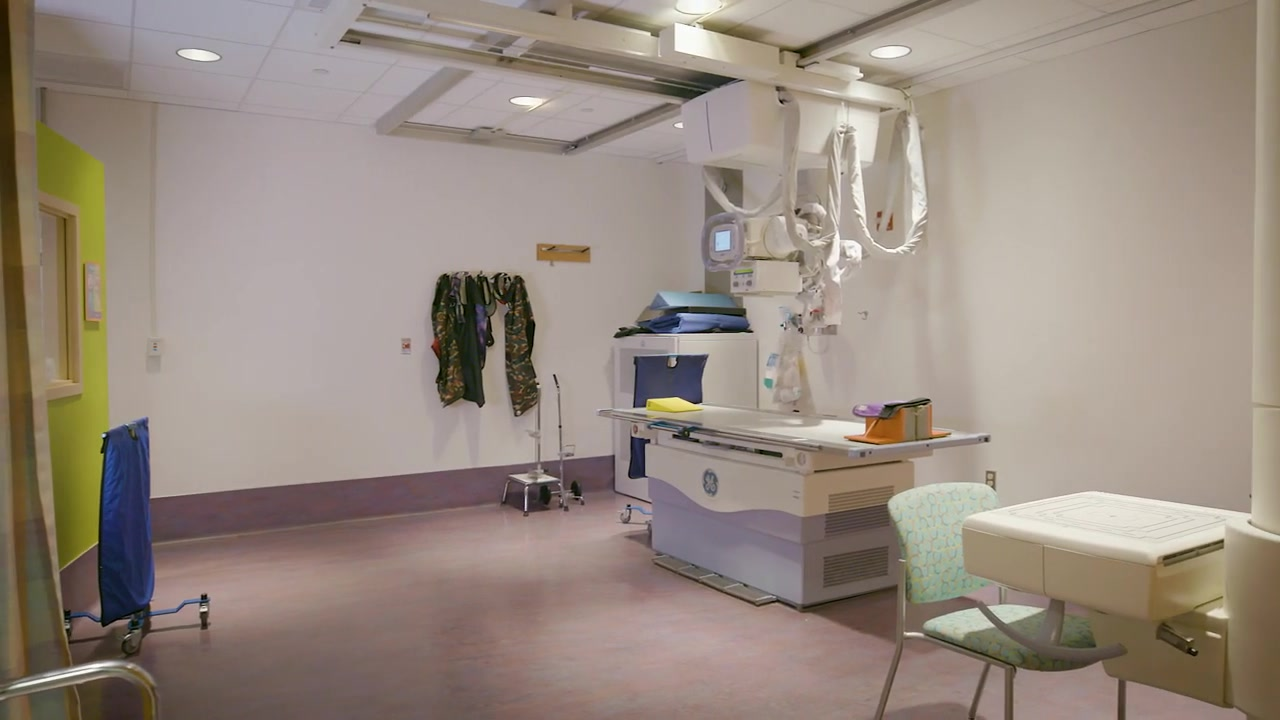bedside_monitor: (716, 230, 731, 251)
chair: (872, 482, 1124, 720)
curtain: (6, 3, 80, 720)
exam_table: (599, 397, 992, 610)
table: (966, 492, 1250, 709)
